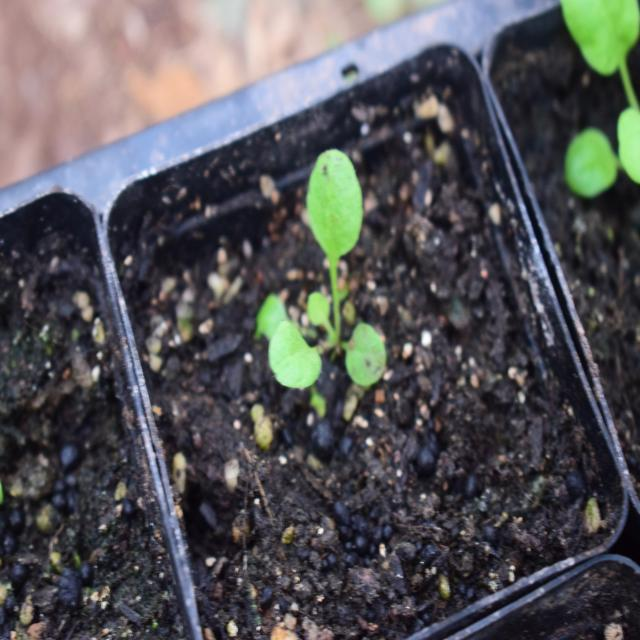Shepherd_Purse: (257, 148, 404, 408)
